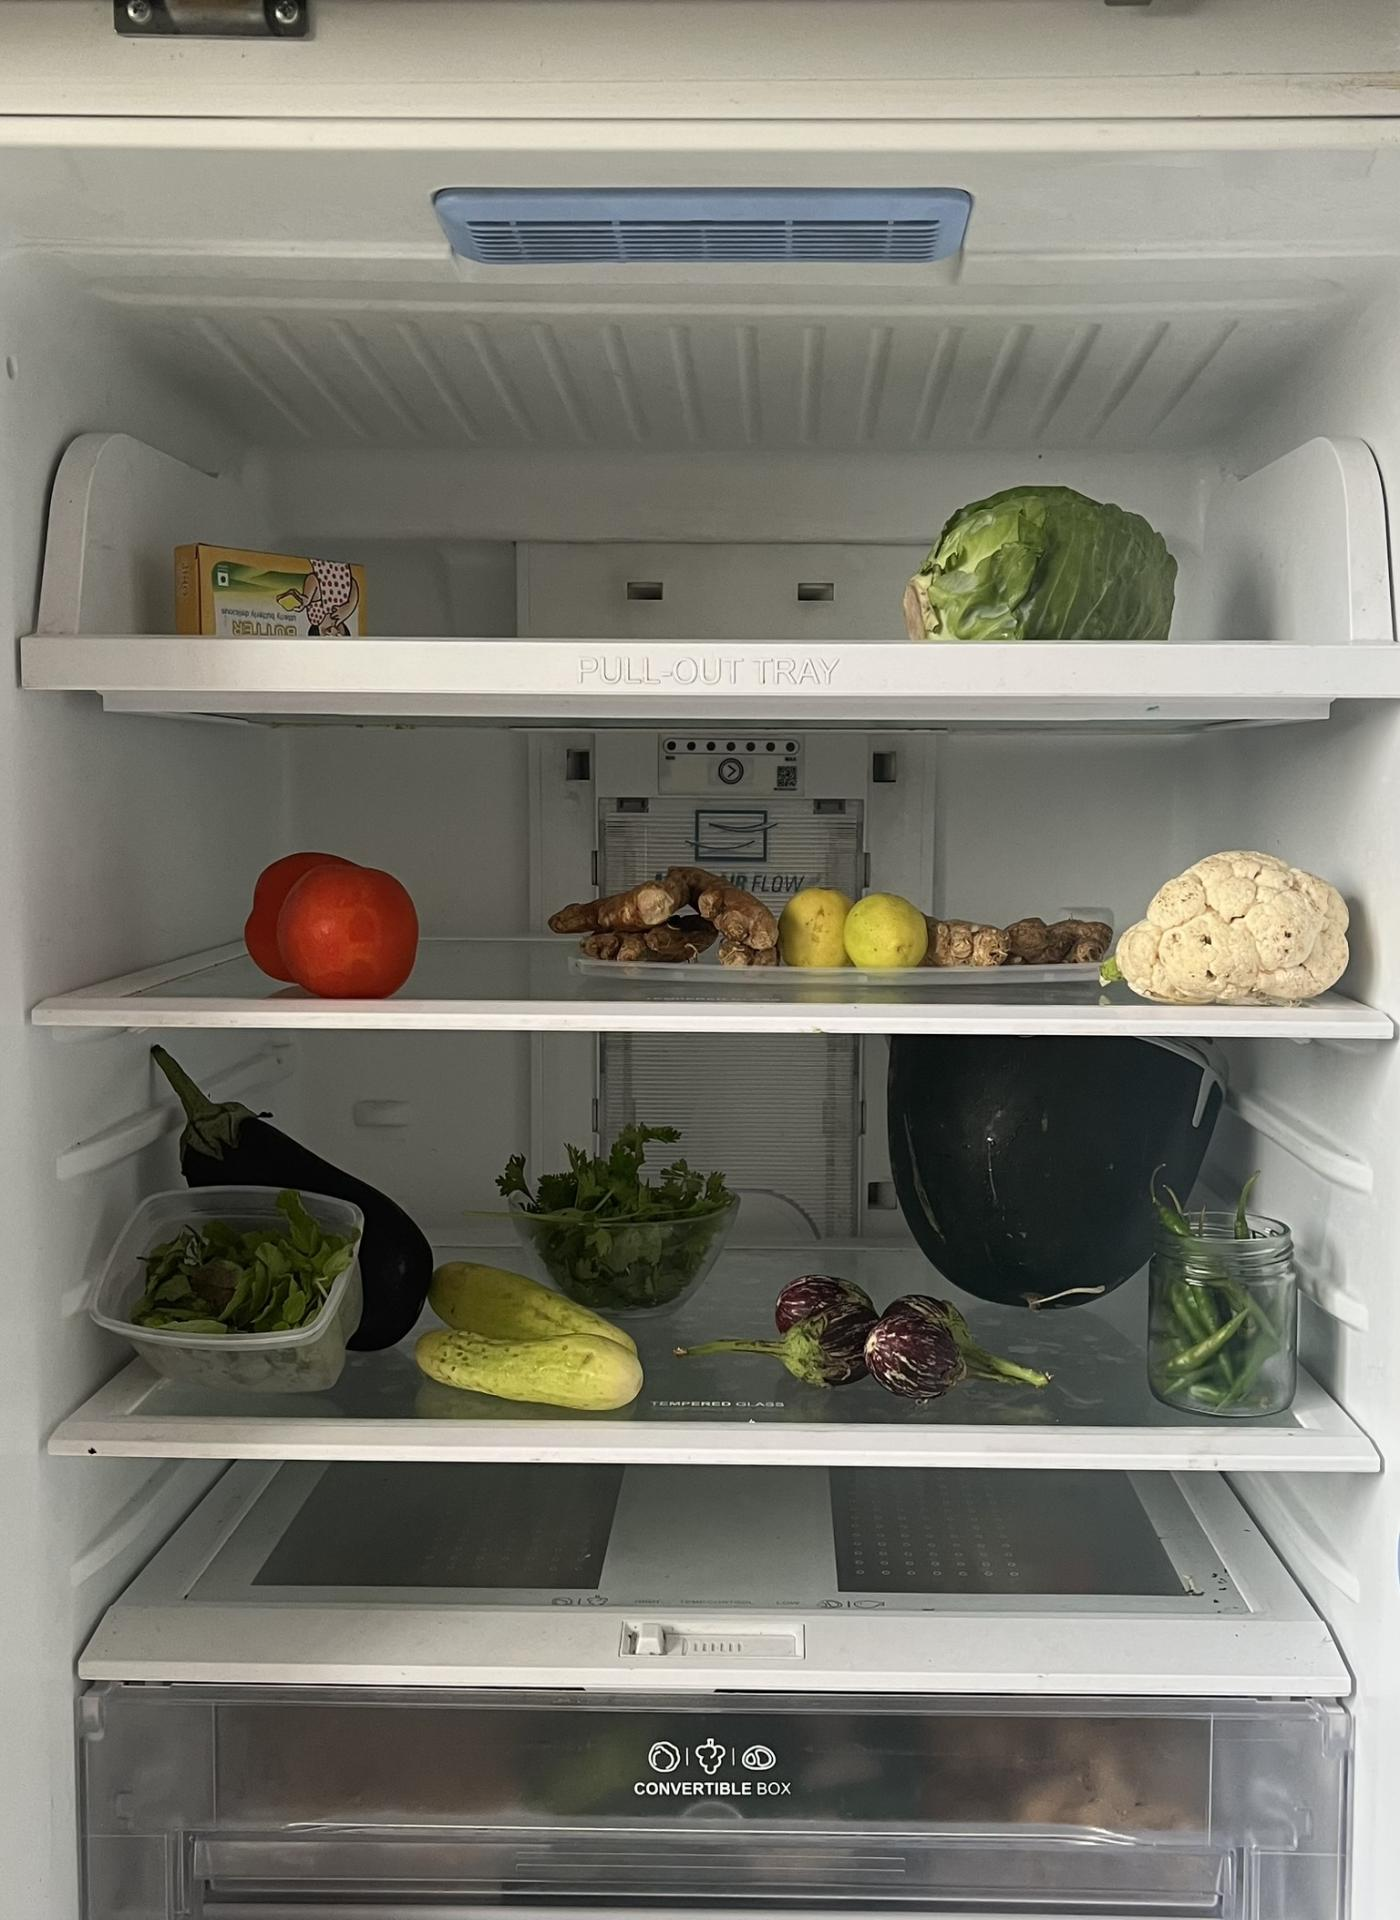butter: (164, 535, 359, 638)
cabbage: (905, 479, 1179, 638)
cauliflower: (1112, 838, 1352, 994)
chillies: (1158, 1178, 1288, 1410)
coriander: (501, 1106, 729, 1309)
cucumber: (422, 1266, 644, 1409)
ginger: (553, 856, 778, 969), (930, 912, 1112, 972)
lemon: (778, 875, 936, 978)
tomato: (249, 847, 419, 1000)
watermelon: (890, 1038, 1218, 1315)
